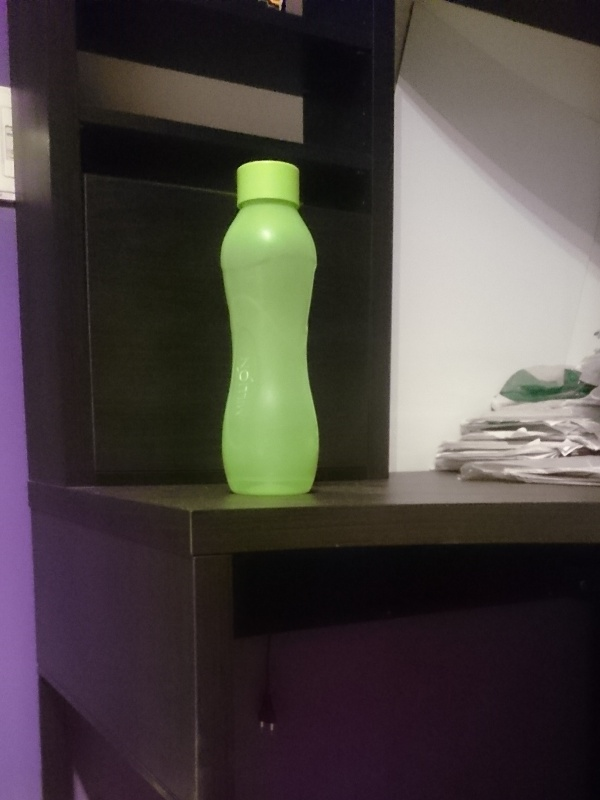my bottle: (221, 160, 319, 498)
